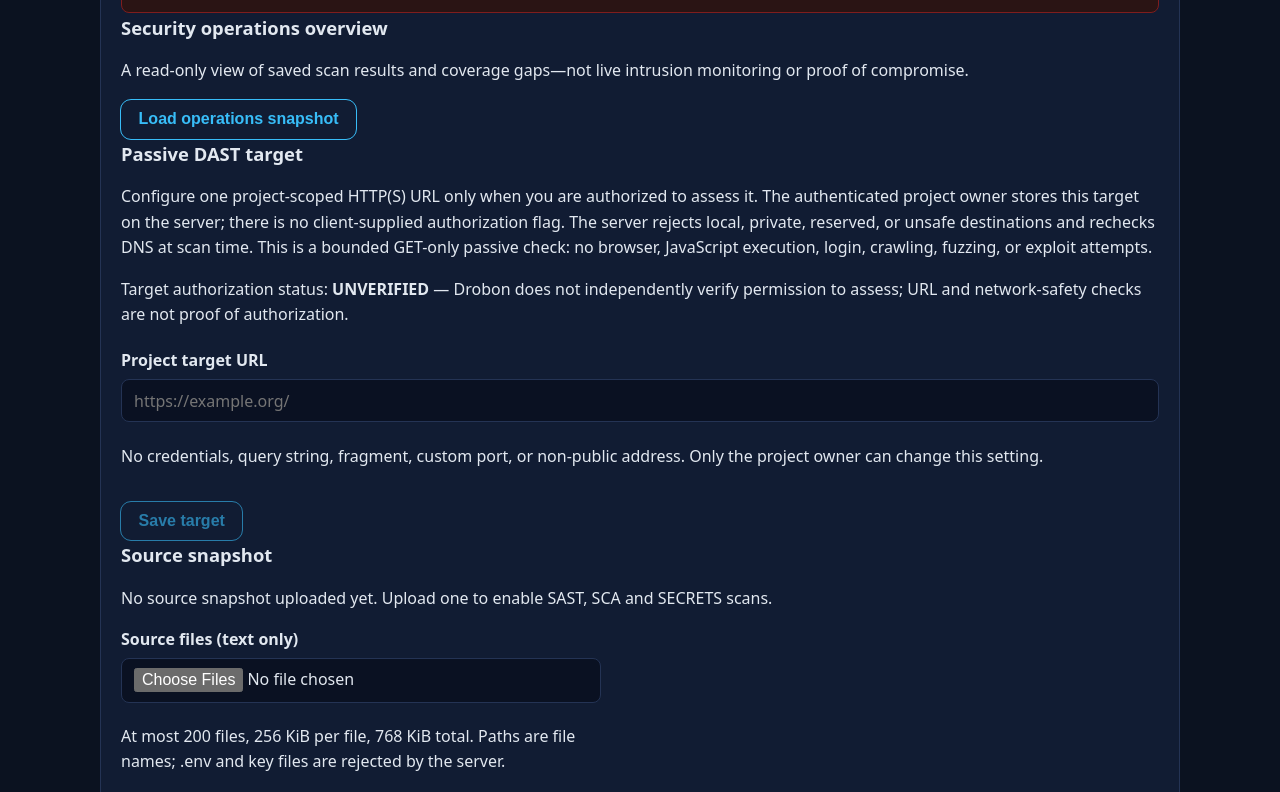
Test: passive DAST project UI › owner configures/removes the target and DAST stays disabled until the server confirms it
(page scrolled)
Expected: the element with test id "dast-authorization-status" shows "Target authorization status: UNVERIFIED", [121,277,1159,328]
Expected: the element with test id "dast-authorization-status" shows "does not independently verify permission to assess", [121,278,1141,325]
Type "https://fixture.example.org/" into the field labelled "Project target URL" at (640, 401), box [121,379,1159,422]
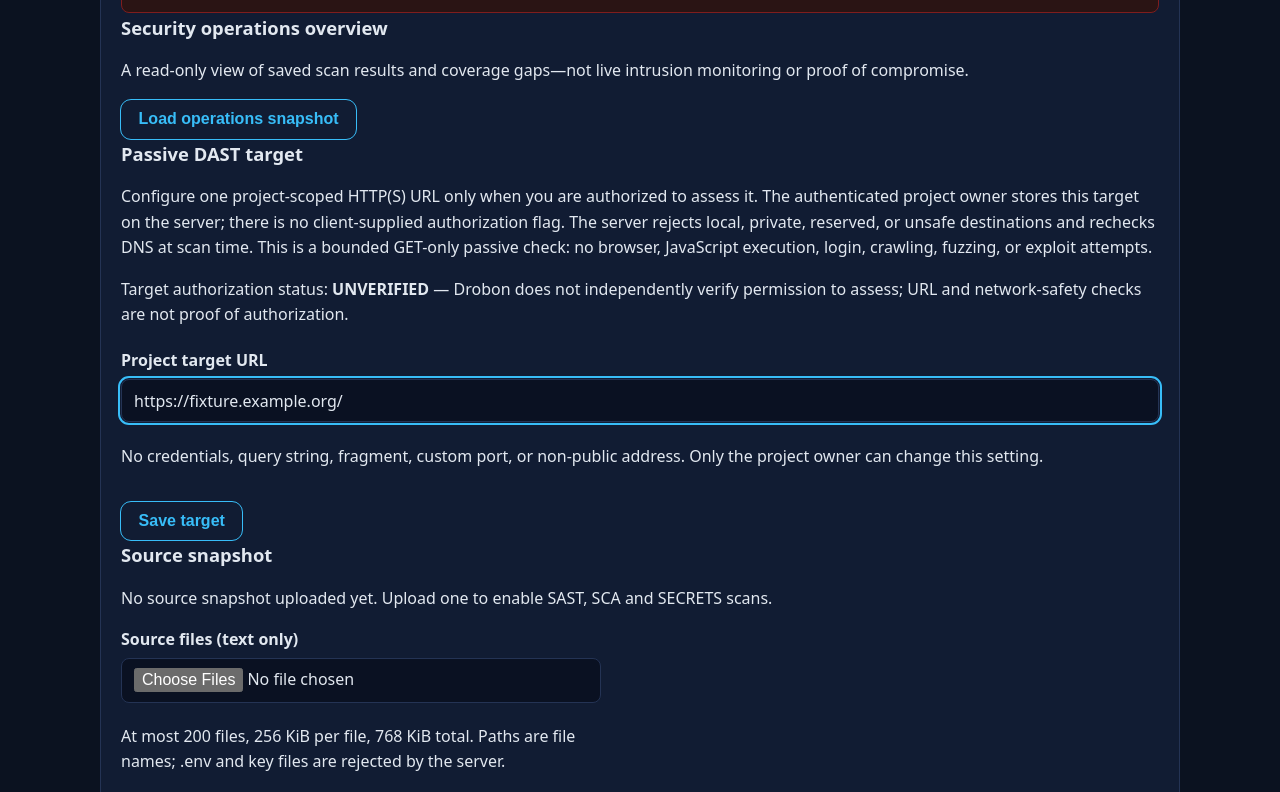
Click the button "Save target" at (182, 521), box [121,502,242,540]
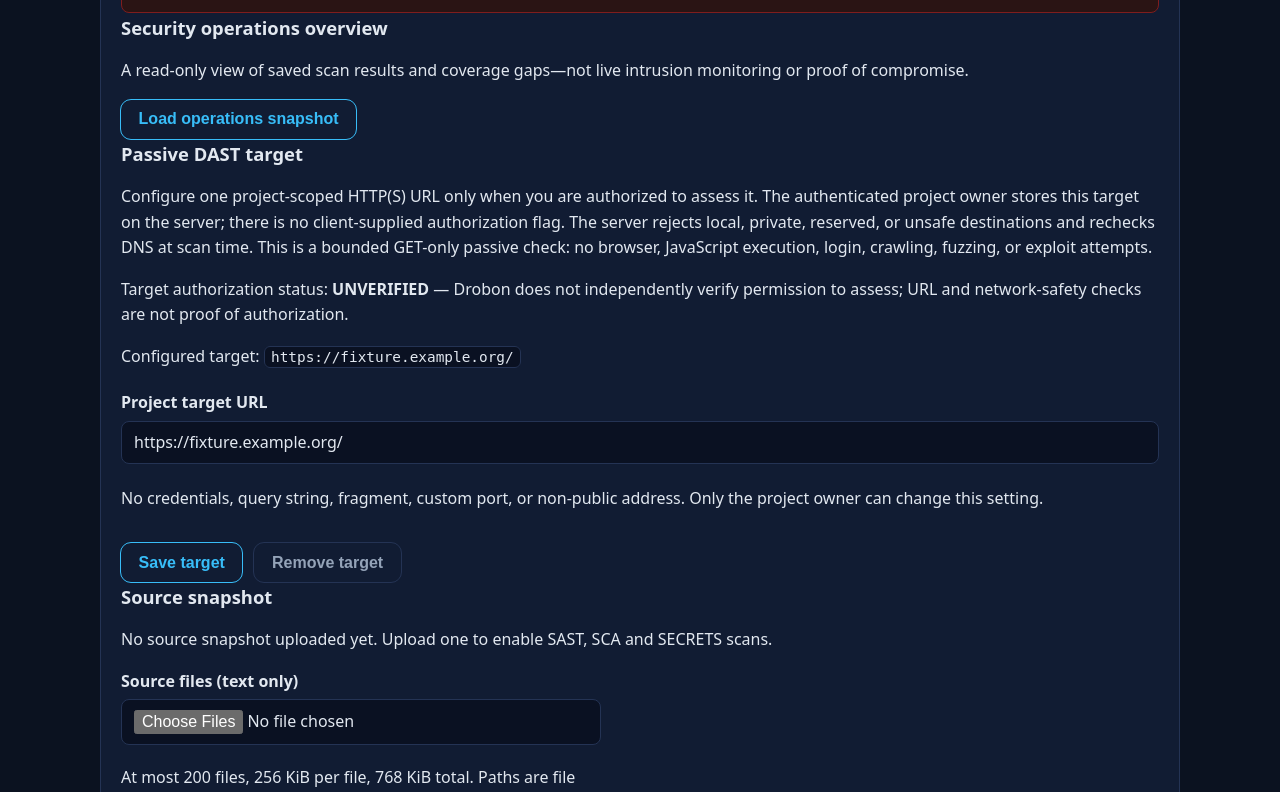
Expected: the element with test id "dast-configured-target" shows "https://fixture.example.org/", [271,349,514,365]
Click the button "Remove target" at (328, 562), box [254,543,401,582]
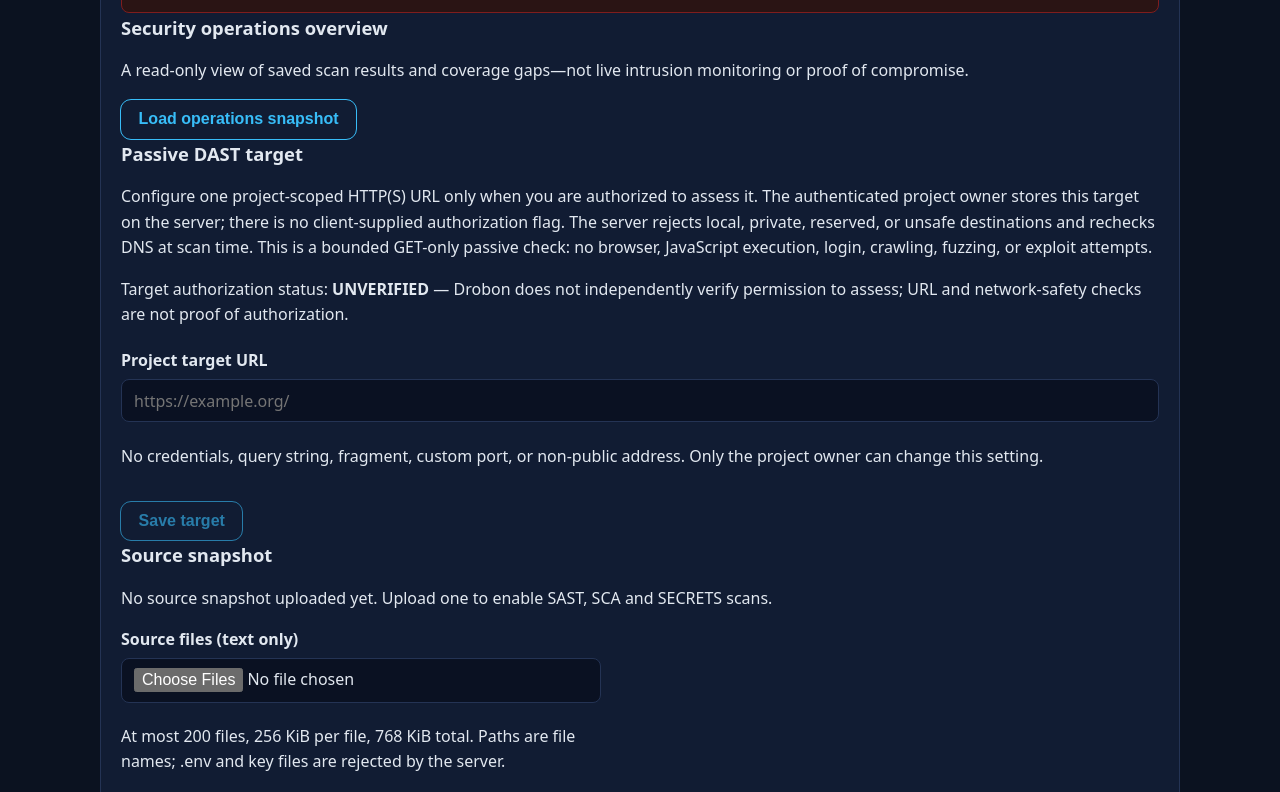
Expected: the element with test id "dast-configured-target" is gone
